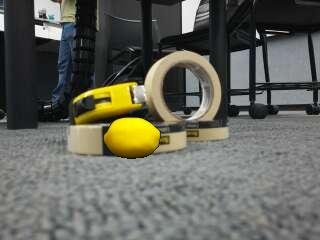lemon: (105, 117, 160, 158)
